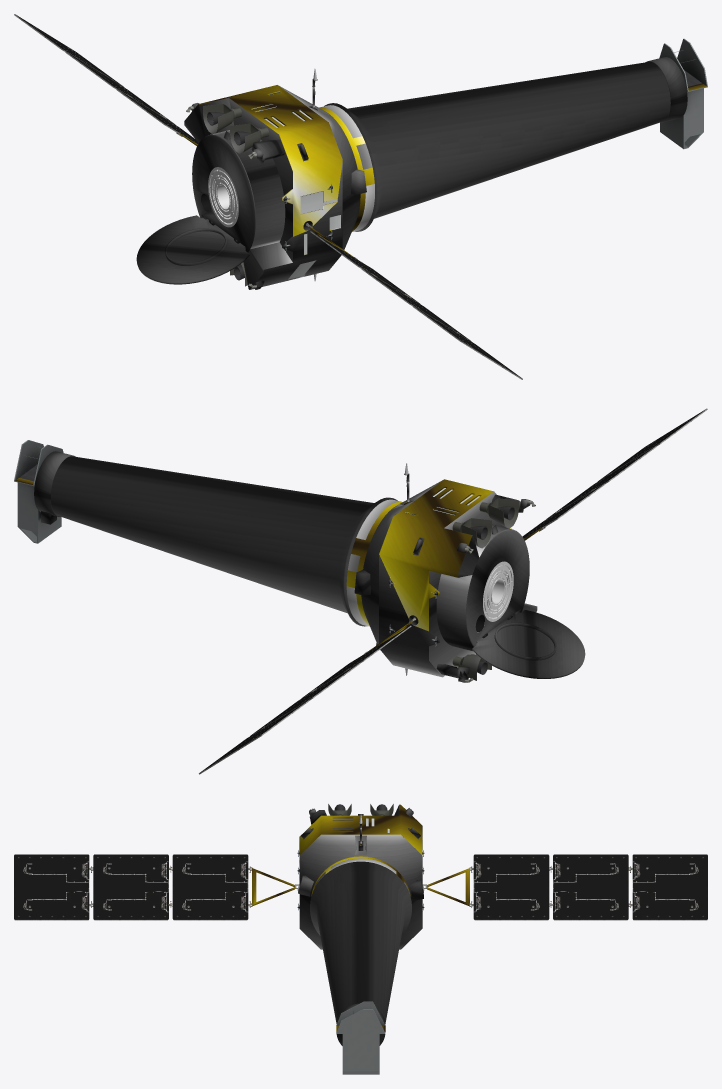
The model's file is chandra.glb.
3 views of the same model, one above another, from view 1: azimuth 30°, elevation 25°; view 2: azimuth 150°, elevation 25°; view 3: azimuth 270°, elevation 25° (orthographic). The views are drawn at different scales.
Visible parts, largest first — view 1: foil_silver, shiny_panel, foil_gold, AO_HRMA; view 2: foil_silver, foil_gold, shiny_panel, AO_HRMA; view 3: shiny_panel, foil_silver, foil_gold.
Boxes of the visible parts, <box> form: foil_silver: <box>136,57,687,289</box>; shiny_panel: <box>14,14,707,379</box>; foil_gold: <box>180,83,706,256</box>; AO_HRMA: <box>208,167,238,227</box>; foil_silver: <box>34,451,585,682</box>; foil_gold: <box>15,478,541,651</box>; shiny_panel: <box>14,408,707,774</box>; AO_HRMA: <box>483,561,513,621</box>; shiny_panel: <box>14,804,707,1074</box>; foil_silver: <box>297,805,424,1045</box>; foil_gold: <box>252,804,469,1032</box>.
Bounding box in the file's own units: 13.78 × 5.12 × 19.51.
Materials: 4 (3 with a texture image).
